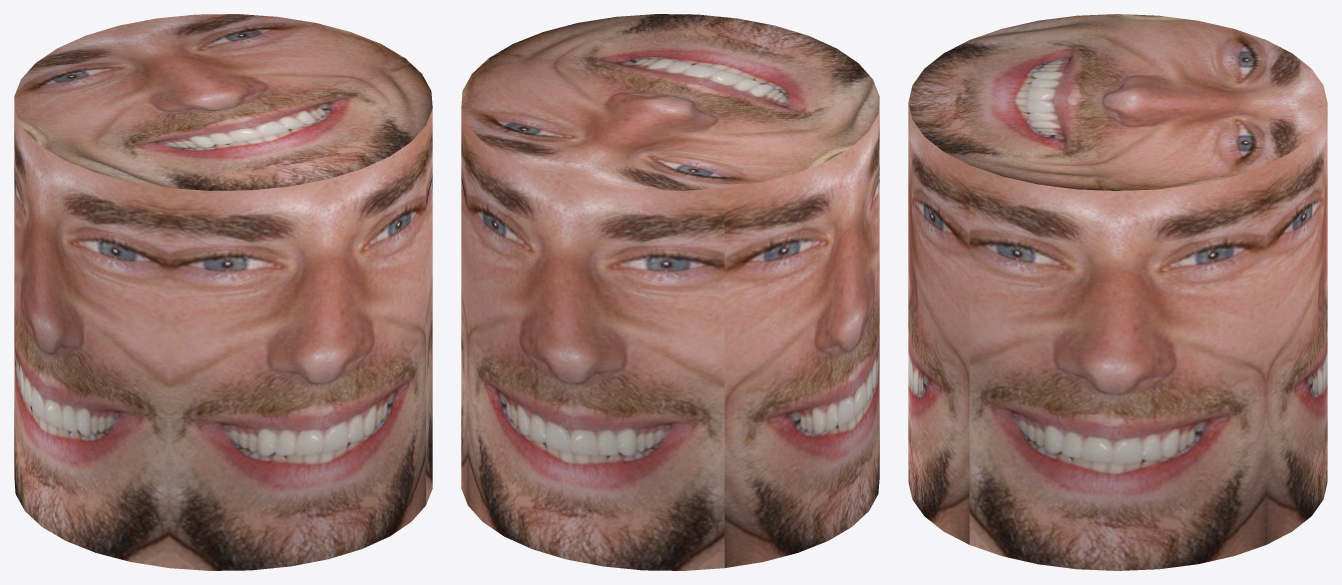
The model's file is kroeger-cylinder.glb.
3 views of the same model, side by side, from view 1: azimuth 30°, elevation 25°; view 2: azimuth 150°, elevation 25°; view 3: azimuth 270°, elevation 25° (orthographic).
Visible parts, largest first — view 1: Cylinder; view 2: Cylinder; view 3: Cylinder.
Part boxes in pixels (x1=…): Cylinder: x1=14, y1=14, x2=432, y2=570; Cylinder: x1=461, y1=14, x2=879, y2=570; Cylinder: x1=908, y1=14, x2=1327, y2=570.
Size of the model in its own units: 2 by 2 by 2.
1 material, 1 textured.
